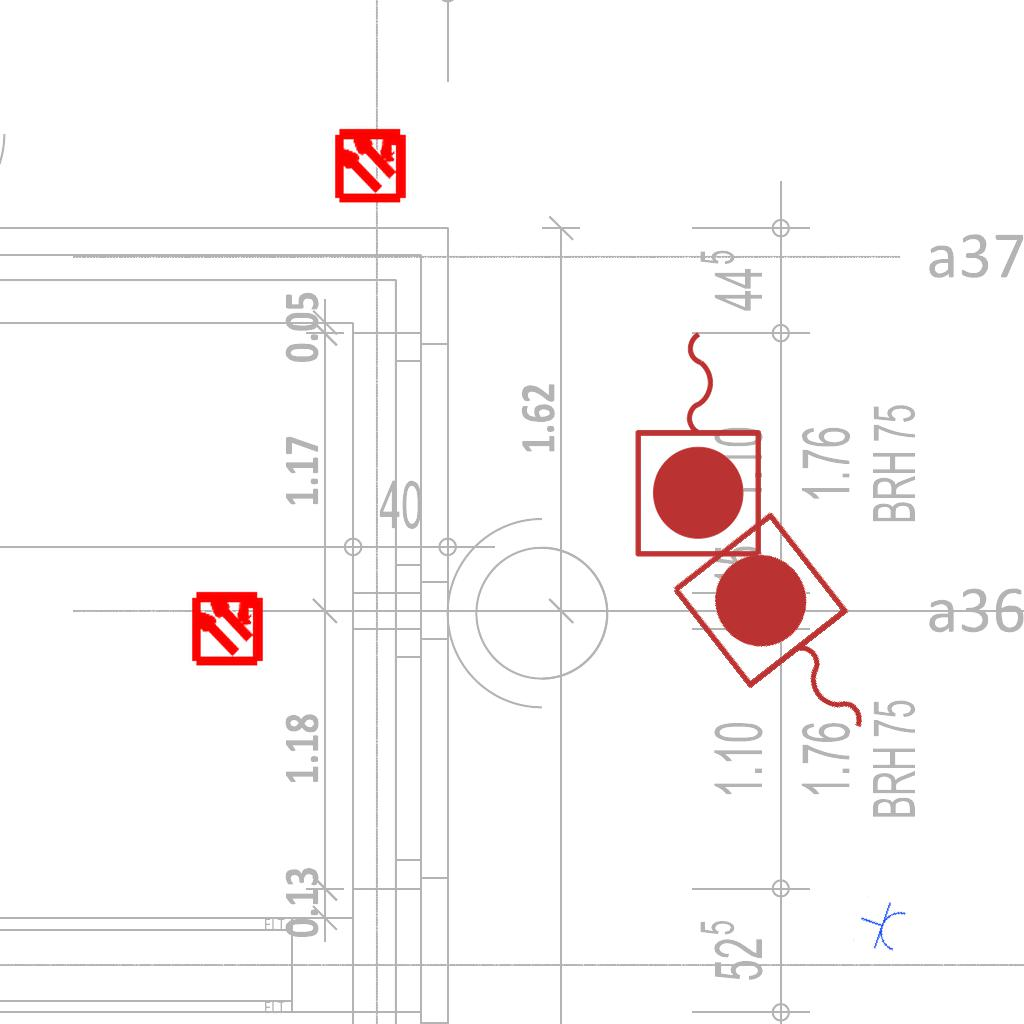OT_Multisensormelder_(Kombination_RMO_WMD): (171, 570, 284, 683), (314, 107, 427, 220)
Schukosteckdose_einfach: (852, 894, 910, 957)
Zugtaster: (658, 500, 922, 782), (628, 321, 772, 565)
